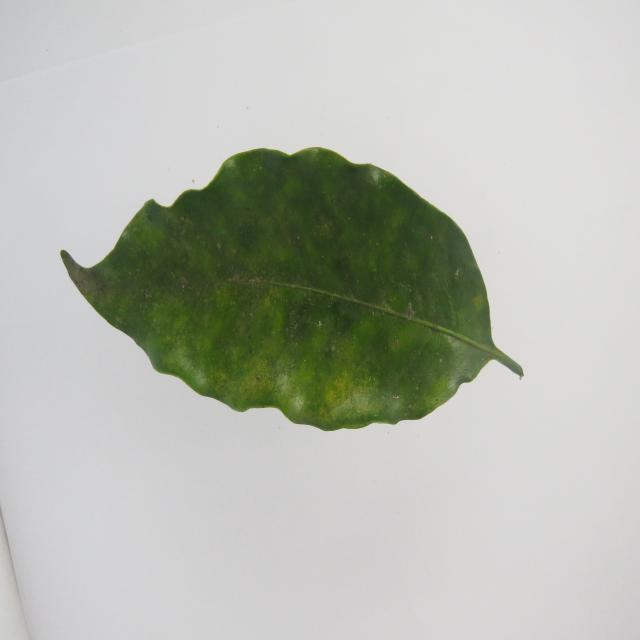DeficienciaNutricional-Calcio: (61, 148, 524, 430)
